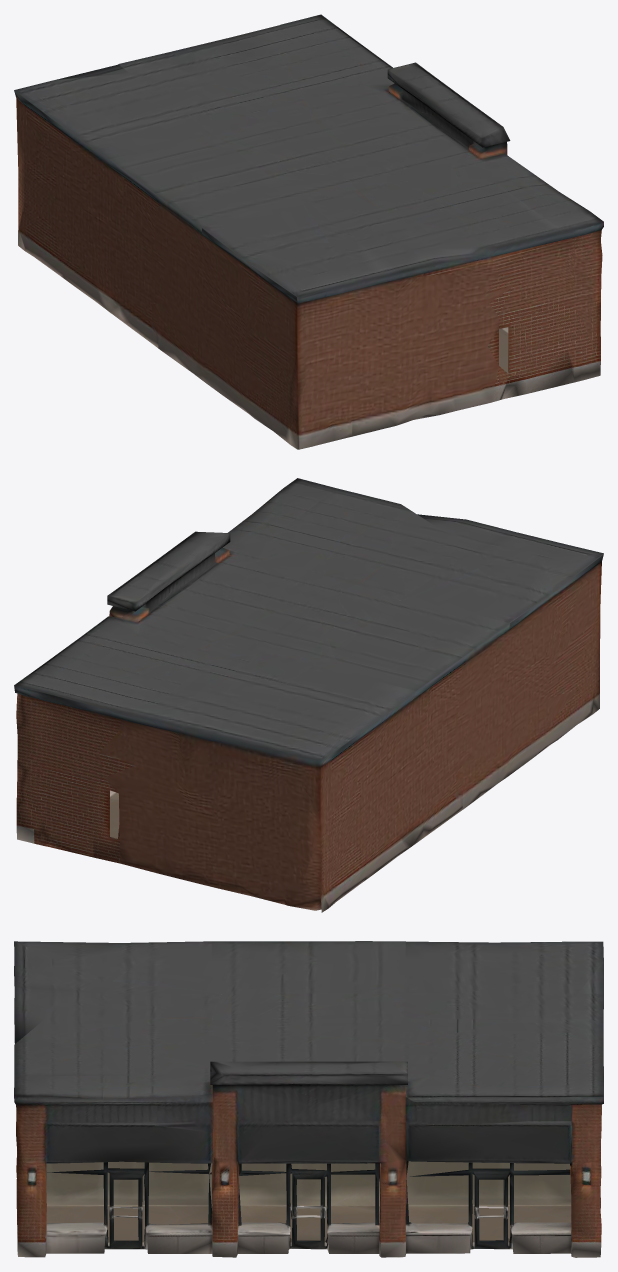
File: plaza_b.glb
3 renders of one model, top to bottom at view 1: azimuth 30°, elevation 25°; view 2: azimuth 150°, elevation 25°; view 3: azimuth 270°, elevation 25°, orthographic. The views are drawn at different scales.
Visible parts, largest first — view 1: tripo_node_a86e7ee2-ffa0-42ef-8ac9-d3ed89cfb3d6; view 2: tripo_node_a86e7ee2-ffa0-42ef-8ac9-d3ed89cfb3d6; view 3: tripo_node_a86e7ee2-ffa0-42ef-8ac9-d3ed89cfb3d6.
Boxes of the visible parts, x1,y1,x2,y2 form: tripo_node_a86e7ee2-ffa0-42ef-8ac9-d3ed89cfb3d6: [14, 14, 603, 449]; tripo_node_a86e7ee2-ffa0-42ef-8ac9-d3ed89cfb3d6: [14, 478, 603, 912]; tripo_node_a86e7ee2-ffa0-42ef-8ac9-d3ed89cfb3d6: [14, 941, 603, 1257].
Bounding box in the file's own units: 0.6305 × 0.3438 × 1.
1 material, 1 textured.
